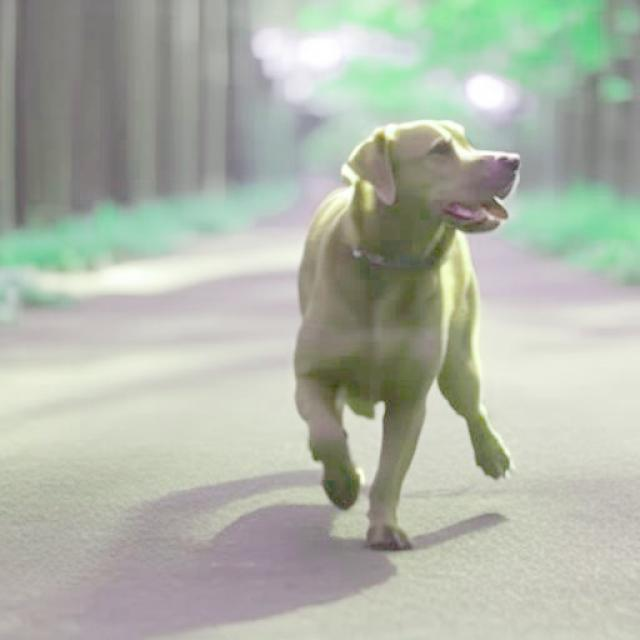Dog: (293, 118, 521, 550)
